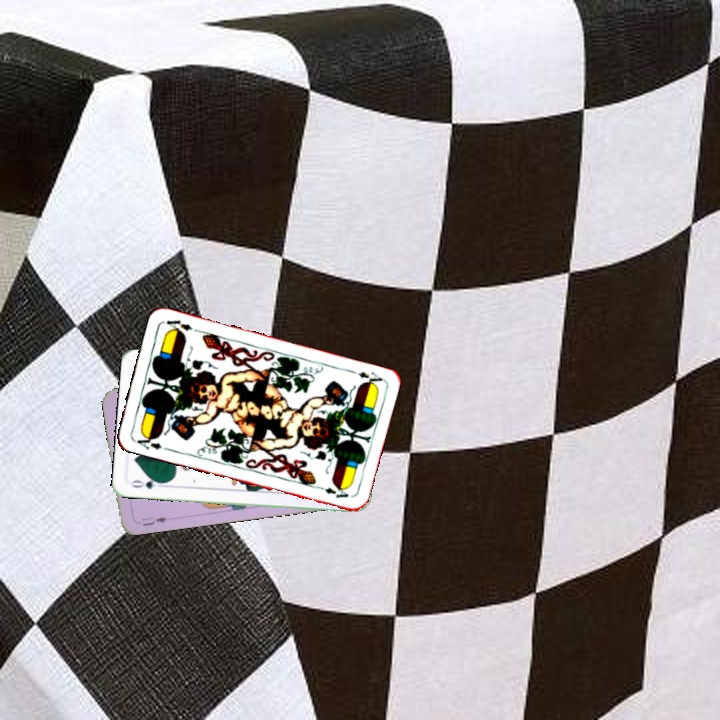EA: (130, 429, 170, 453), (345, 366, 385, 389)
EU: (138, 513, 170, 529)
GO: (128, 474, 167, 492)
